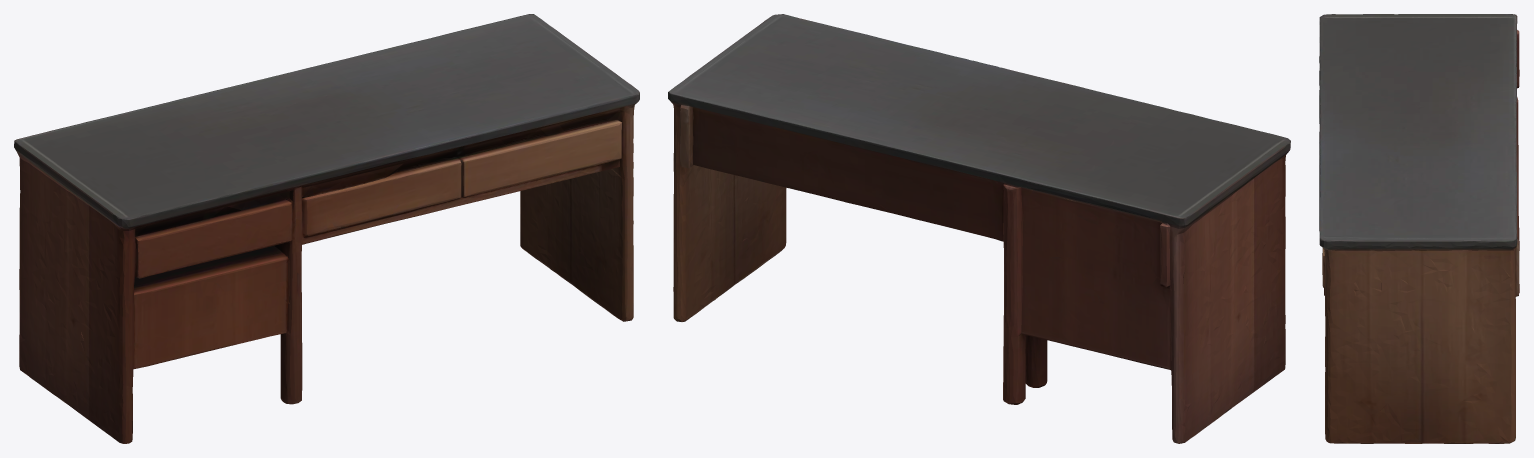
The model's file is ast_9c5579b81c97.glb.
The picture shows the model from 3 angles, left to right: view 1: azimuth 30°, elevation 25°; view 2: azimuth 150°, elevation 25°; view 3: azimuth 270°, elevation 25°; orthographic projection. The views are drawn at different scales.
Visible parts, largest first — view 1: geometry_0; view 2: geometry_0; view 3: geometry_0.
Part boxes in pixels (x1,y1,x2,y2): geometry_0: (14,14,639,443); geometry_0: (668,14,1290,443); geometry_0: (1319,14,1519,443).
Size of the model in its own units: 1 by 0.4232 by 0.3723.
Materials: 1 (1 with a texture image).
